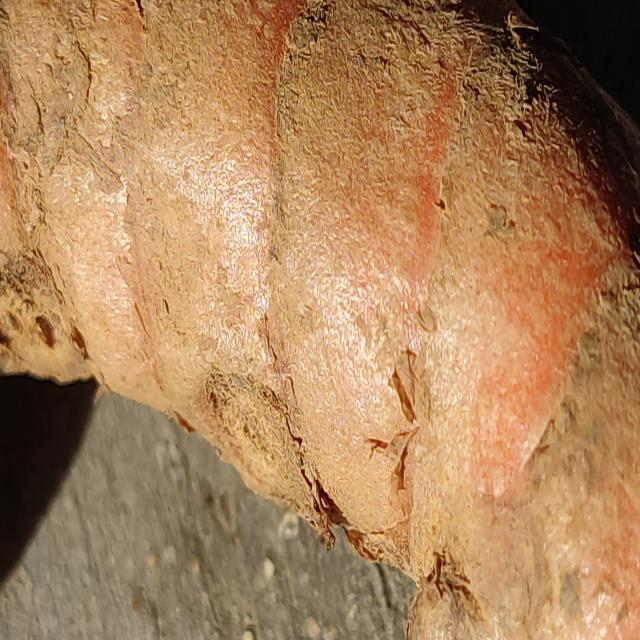ginger: (1, 3, 638, 558)
